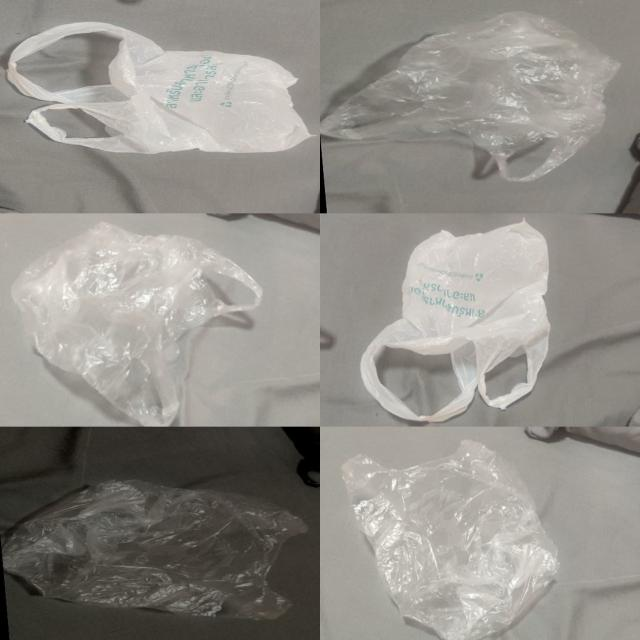Single-layer Plastic: (11, 222, 263, 426), (322, 11, 619, 181), (343, 440, 558, 640), (4, 481, 306, 619), (6, 22, 310, 153), (360, 221, 550, 422)
